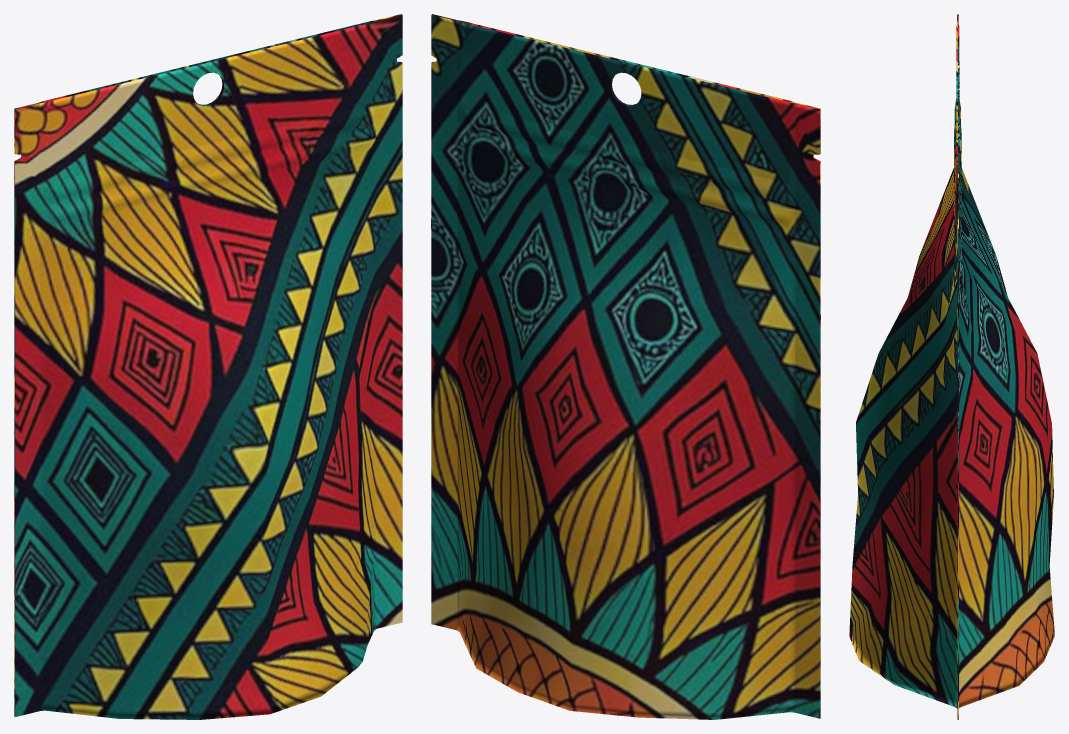
3 views of the same model, side by side, from view 1: azimuth 30°, elevation 25°; view 2: azimuth 150°, elevation 25°; view 3: azimuth 270°, elevation 25° (orthographic). The views are drawn at different scales.
Visible parts, largest first — view 1: sachet_0; view 2: sachet_0; view 3: sachet_0.
Boxes of the visible parts, left/top/right/bottom form: sachet_0: left=14, top=14, right=402, bottom=719; sachet_0: left=431, top=14, right=820, bottom=719; sachet_0: left=849, top=14, right=1054, bottom=719.
Bounding box in the file's own units: 1.42 × 2.13 × 0.7346.
Materials: 1 (1 with a texture image).
